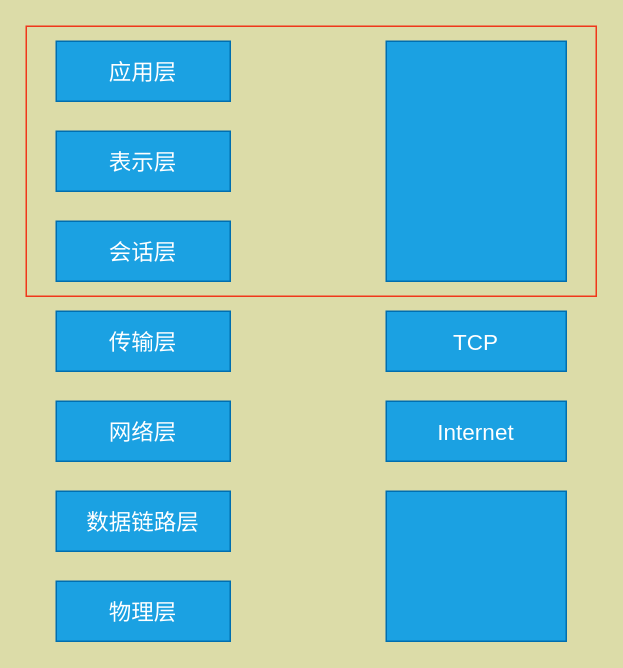
Image size: 623x668. Some labels were removed from this diagram. The shapes that lost their labels are listed below. From the top down, each one's box as (x1, y1, x2, y2) in pixels, then its label:
(385, 40, 566, 281): HTTP
(385, 490, 566, 641): 4G 5G Wi-FI
